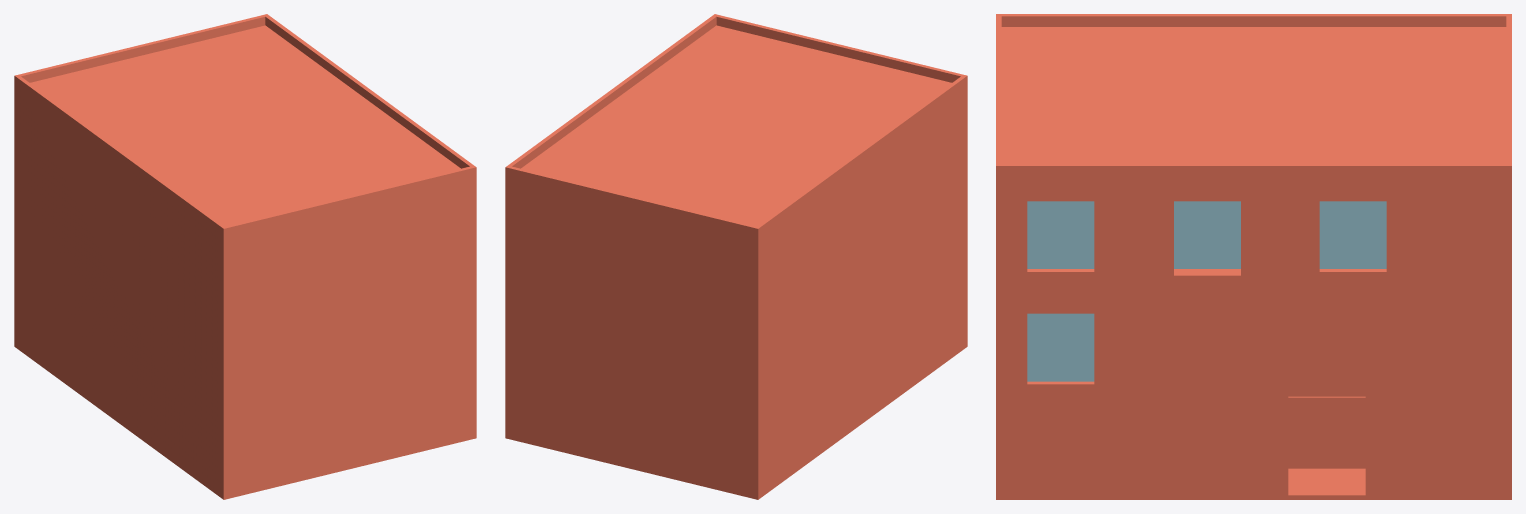
The model's file is Batiment_1.fbx.
3 views of the same model, side by side, from view 1: azimuth 30°, elevation 25°; view 2: azimuth 150°, elevation 25°; view 3: azimuth 270°, elevation 25° (orthographic). The views are drawn at different scales.
Visible parts, largest first — view 1: Batiment1; view 2: Batiment1; view 3: Batiment1.
Boxes of the visible parts, x1,y1,x2,y2 form: Batiment1: (14, 14, 476, 499); Batiment1: (505, 14, 967, 499); Batiment1: (996, 14, 1511, 499).
Bounding box in the file's own units: 500 × 500 × 700.
